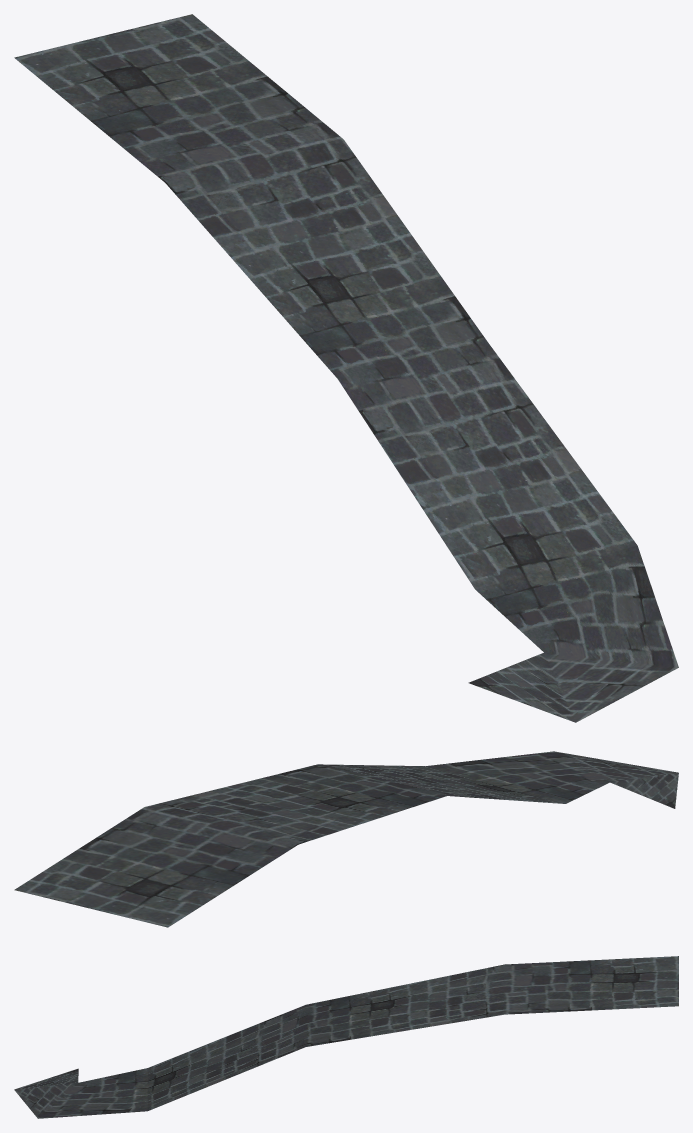
Rendered from blend_brick12.fbx.
3 views of the same model, one above another, from view 1: azimuth 30°, elevation 25°; view 2: azimuth 150°, elevation 25°; view 3: azimuth 270°, elevation 25° (orthographic). The views are drawn at different scales.
Visible parts, largest first — view 1: new_stone/brick_blend_shadow; view 2: new_stone/brick_blend_shadow; view 3: new_stone/brick_blend_shadow.
Boxes of the visible parts, x1,y1,x2,y2 form: new_stone/brick_blend_shadow: (14, 14, 678, 722); new_stone/brick_blend_shadow: (14, 751, 678, 927); new_stone/brick_blend_shadow: (14, 956, 678, 1118).
Size of the model in its own units: 3.68 by 3.43 by 15.
